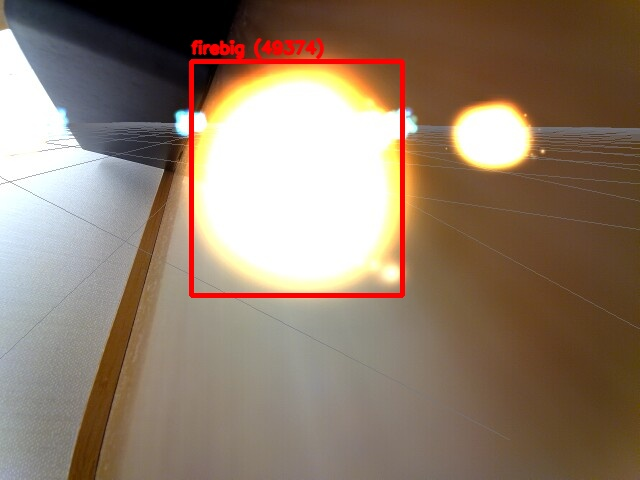firebig: (191, 61, 402, 295)
